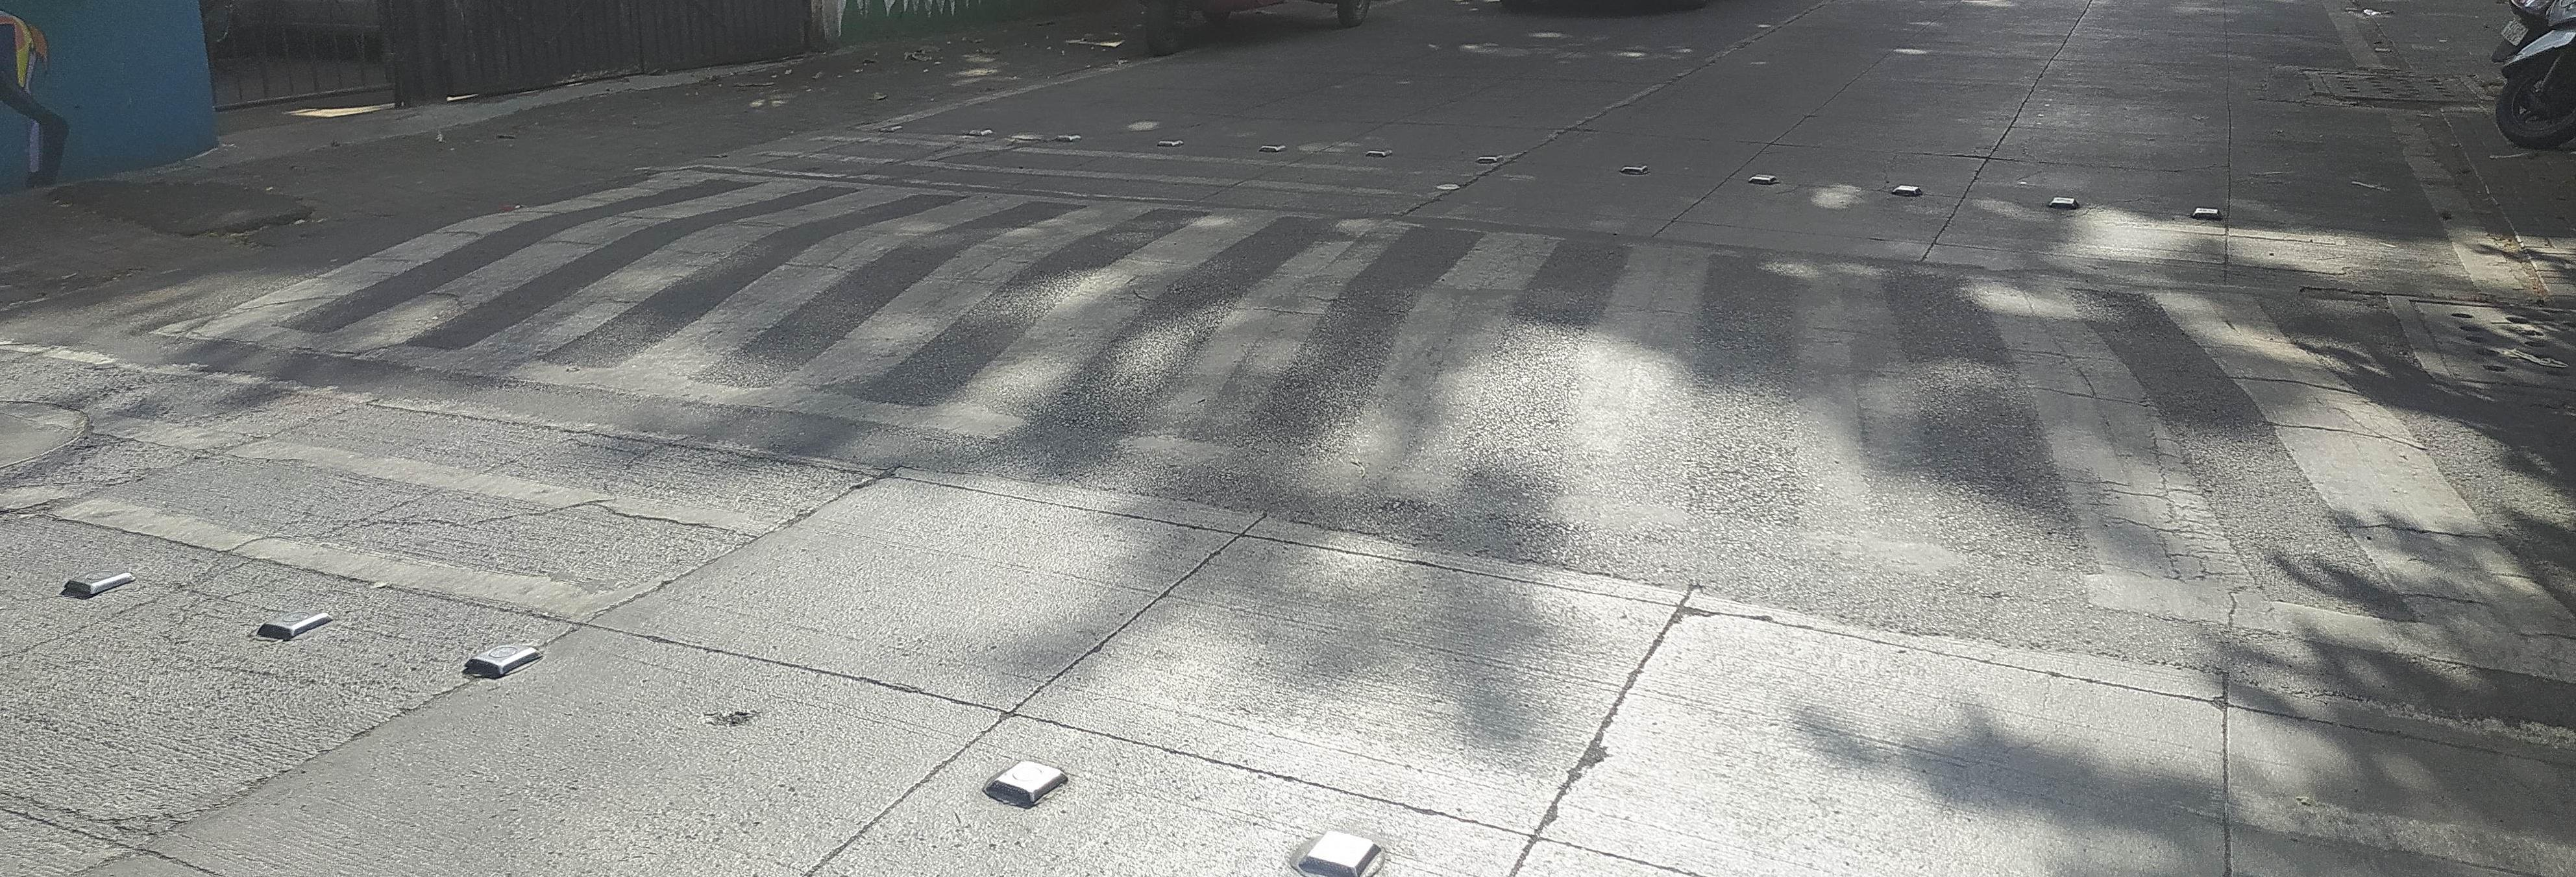speed-bump: (167, 152, 2575, 745)
